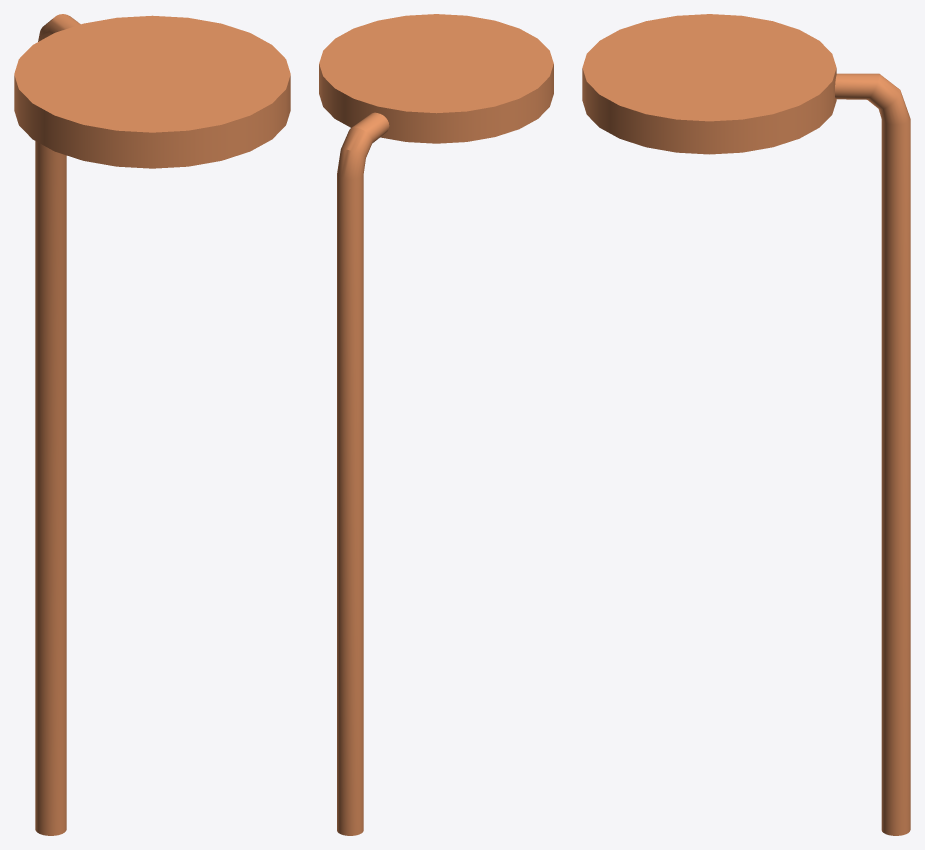
Rendered from 2shower.fbx.
3 renders of one model, left to right at view 1: azimuth 30°, elevation 25°; view 2: azimuth 150°, elevation 25°; view 3: azimuth 270°, elevation 25°, orthographic. The views are drawn at different scales.
Visible parts, largest first — view 1: 2shower; view 2: 2shower; view 3: 2shower.
Part boxes in pixels (x1,y1,x2,y2): 2shower: (14,14,290,835); 2shower: (319,14,553,835); 2shower: (582,14,910,835).
Size of the model in its own units: 30.46 by 101 by 39.32.
